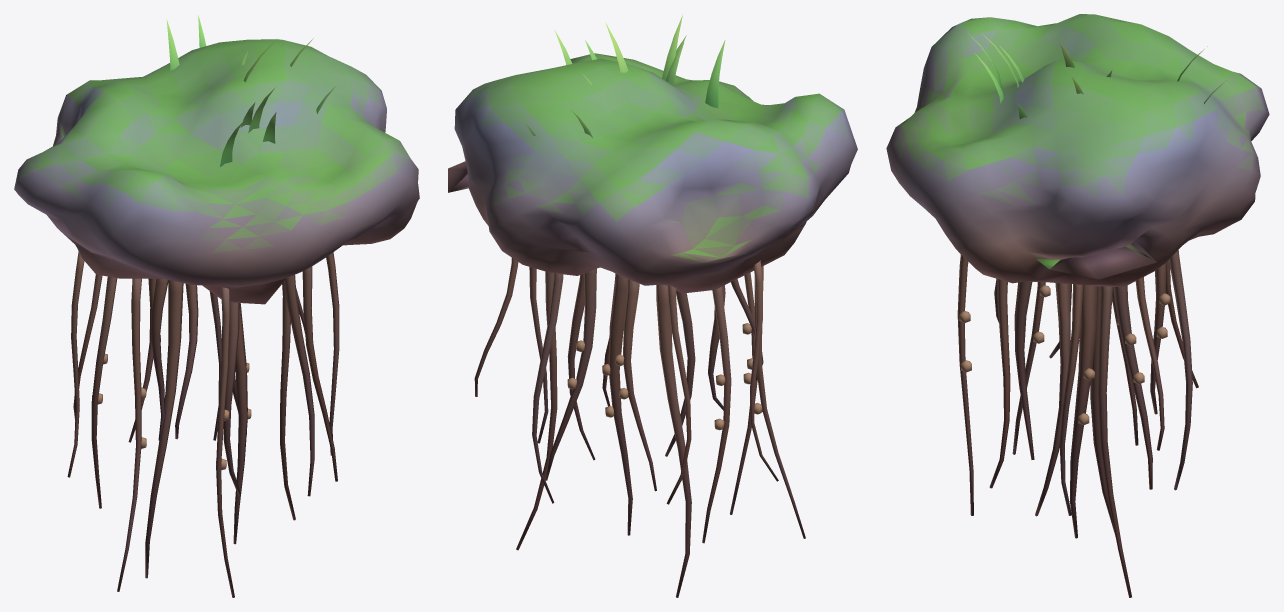
The model's file is verdant_hang_roots_chunk.glb.
The picture shows the model from 3 angles, left to right: view 1: azimuth 30°, elevation 25°; view 2: azimuth 150°, elevation 25°; view 3: azimuth 270°, elevation 25°; orthographic projection. The views are drawn at different scales.
Parts seen in each view (by area): view 1: verdant_hang_roots_chunk; view 2: verdant_hang_roots_chunk; view 3: verdant_hang_roots_chunk.
Boxes of the visible parts, left/top/right/bottom form: verdant_hang_roots_chunk: left=14, top=15, right=419, bottom=597; verdant_hang_roots_chunk: left=448, top=14, right=857, bottom=597; verdant_hang_roots_chunk: left=886, top=14, right=1269, bottom=597.
Size of the model in its own units: 2.25 by 3.12 by 1.97.
